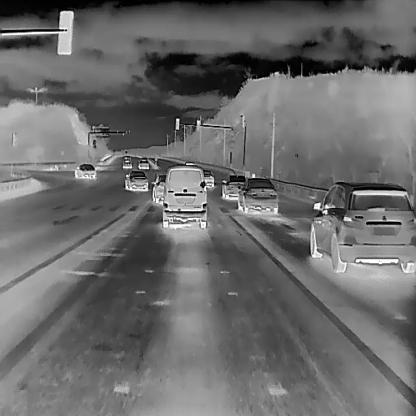car: (310, 181, 416, 273), (162, 164, 208, 229), (237, 177, 277, 212), (221, 174, 246, 200), (124, 169, 148, 192), (151, 171, 167, 205), (73, 163, 95, 179), (201, 168, 214, 188), (136, 156, 149, 169), (121, 153, 131, 169)
